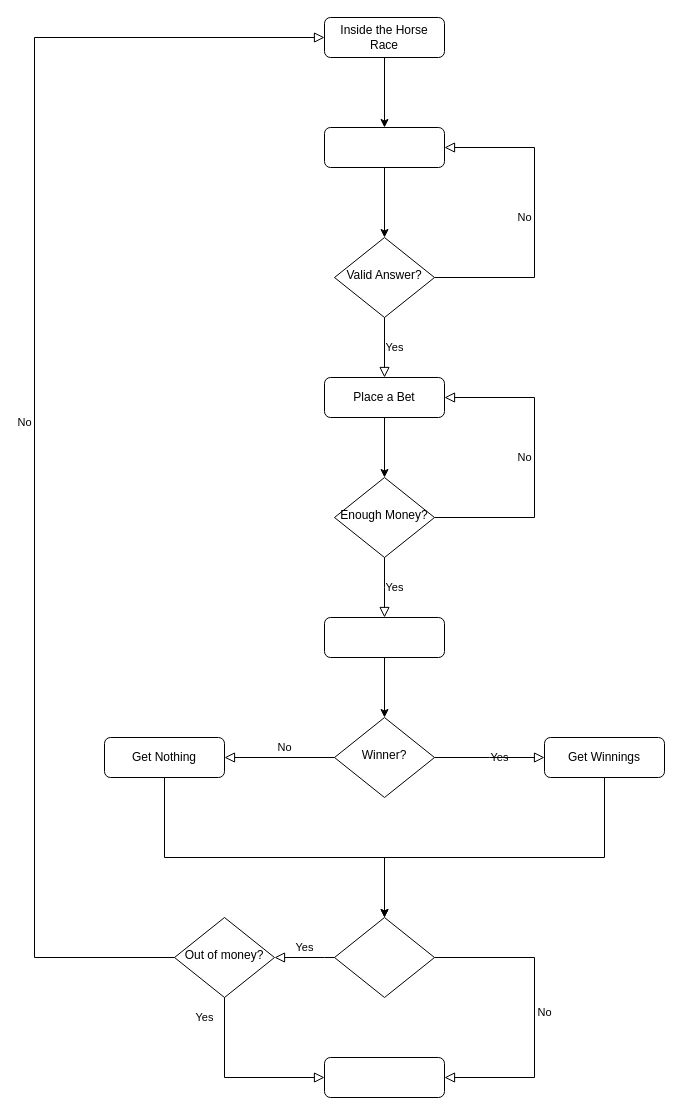
This 682x1115 diagram has some shape labels left out. The shapes that lost their labels are listed below. From the top down, each one's centre as x and y in pixels, then its label:
the point at 384,147: Choose a Horse
the point at 384,637: Race
the point at 384,957: Race Again?
the point at 384,1077: Leave
